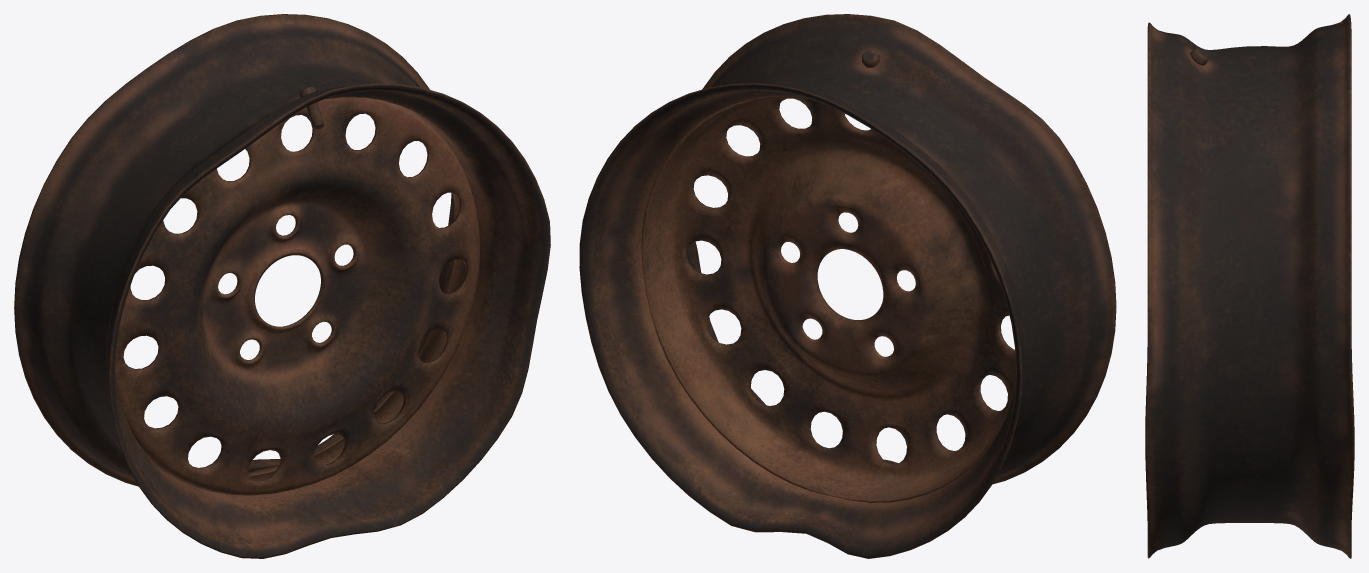
Rendered from rusted_wheel_rim_01.glb.
3 renders of one model, left to right at view 1: azimuth 30°, elevation 25°; view 2: azimuth 150°, elevation 25°; view 3: azimuth 270°, elevation 25°, orthographic. The views are drawn at different scales.
Visible parts, largest first — view 1: rusted_wheel_rim_01; view 2: rusted_wheel_rim_01; view 3: rusted_wheel_rim_01.
Boxes of the visible parts, x1,y1,x2,y2 form: rusted_wheel_rim_01: [14, 14, 550, 558]; rusted_wheel_rim_01: [579, 14, 1116, 558]; rusted_wheel_rim_01: [1145, 14, 1354, 558].
Bounding box in the file's own units: 0.4029 × 0.3955 × 0.1541.
1 material, 1 textured.
